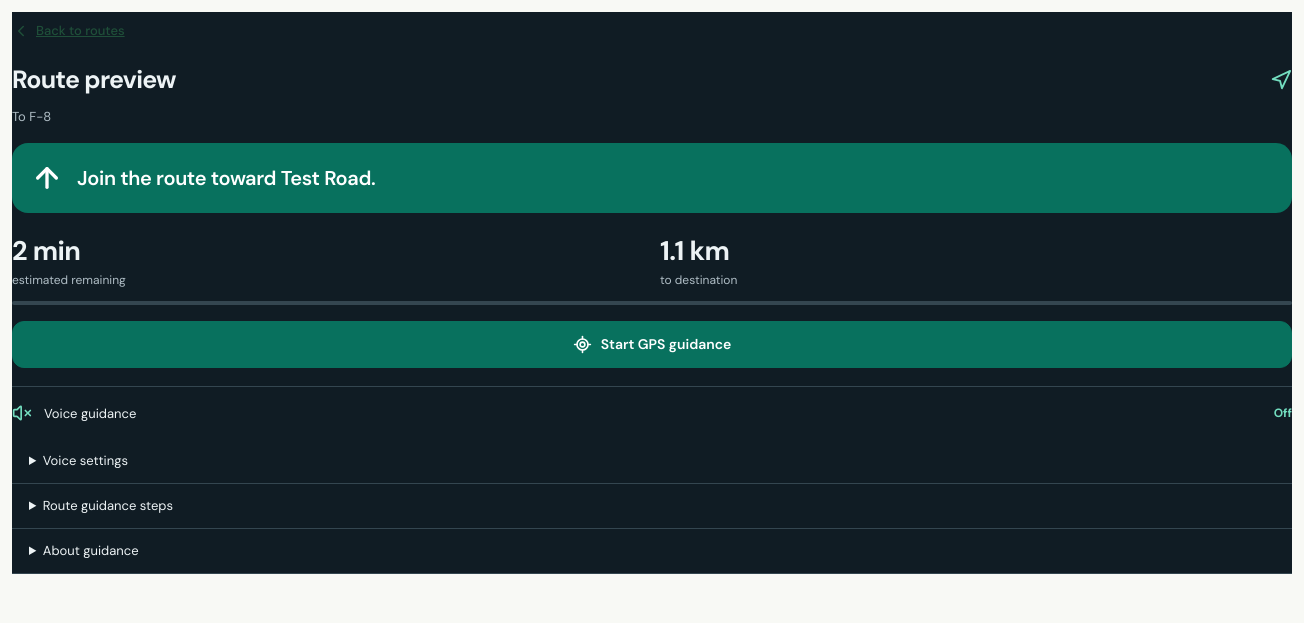
Test case: clears the watch and rejects late watch/poll callbacks after stop
Click the button "Start GPS guidance" at (652, 345), box [12, 321, 1292, 368]
Wait 10000 ms
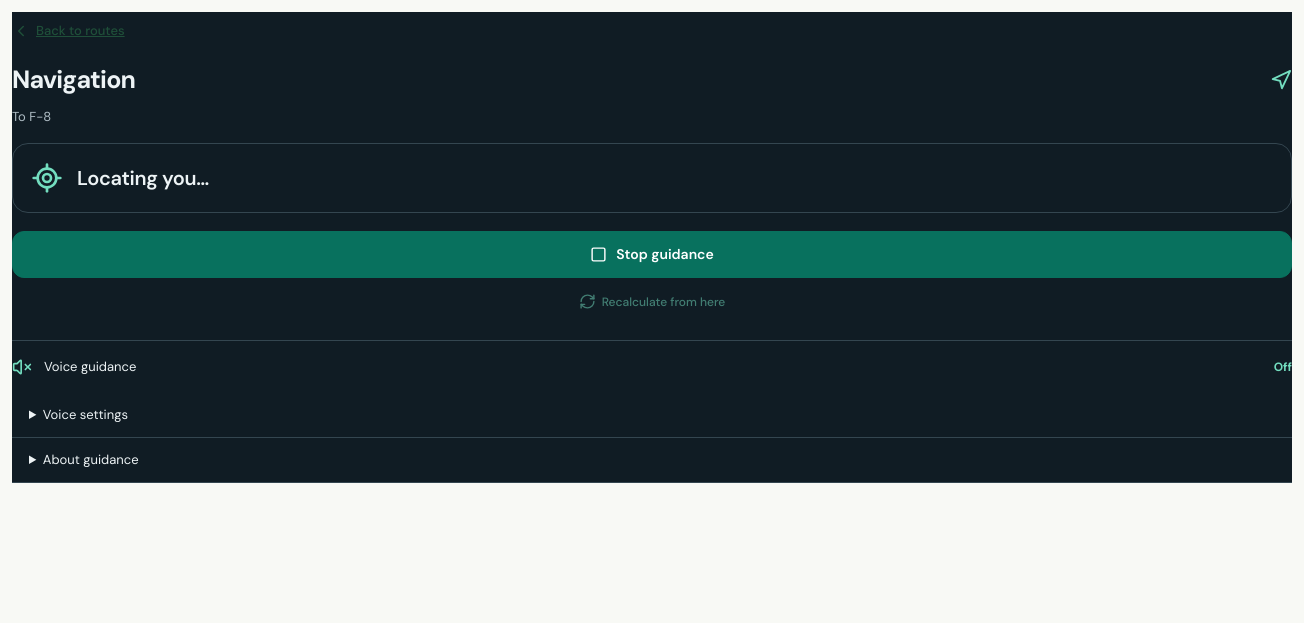
Click the button "Stop guidance" at (652, 254), box [12, 231, 1292, 278]
Wait 1 ms
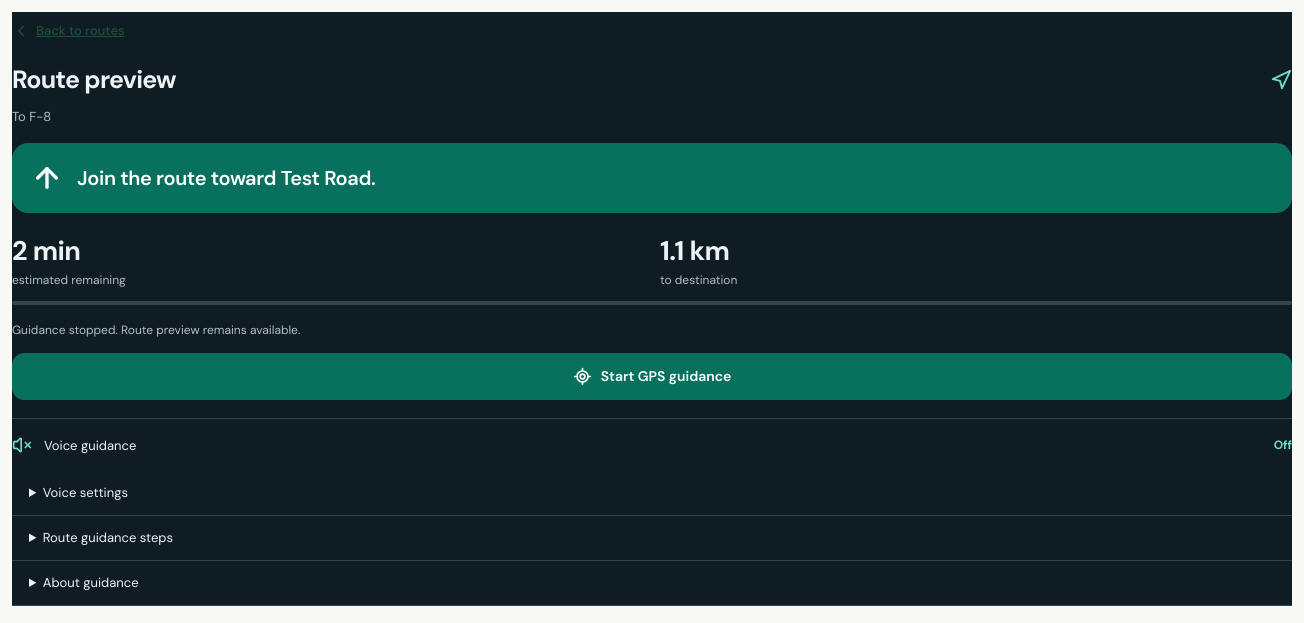
Check: the button "Start GPS guidance" is shown, box [12, 353, 1292, 400]
